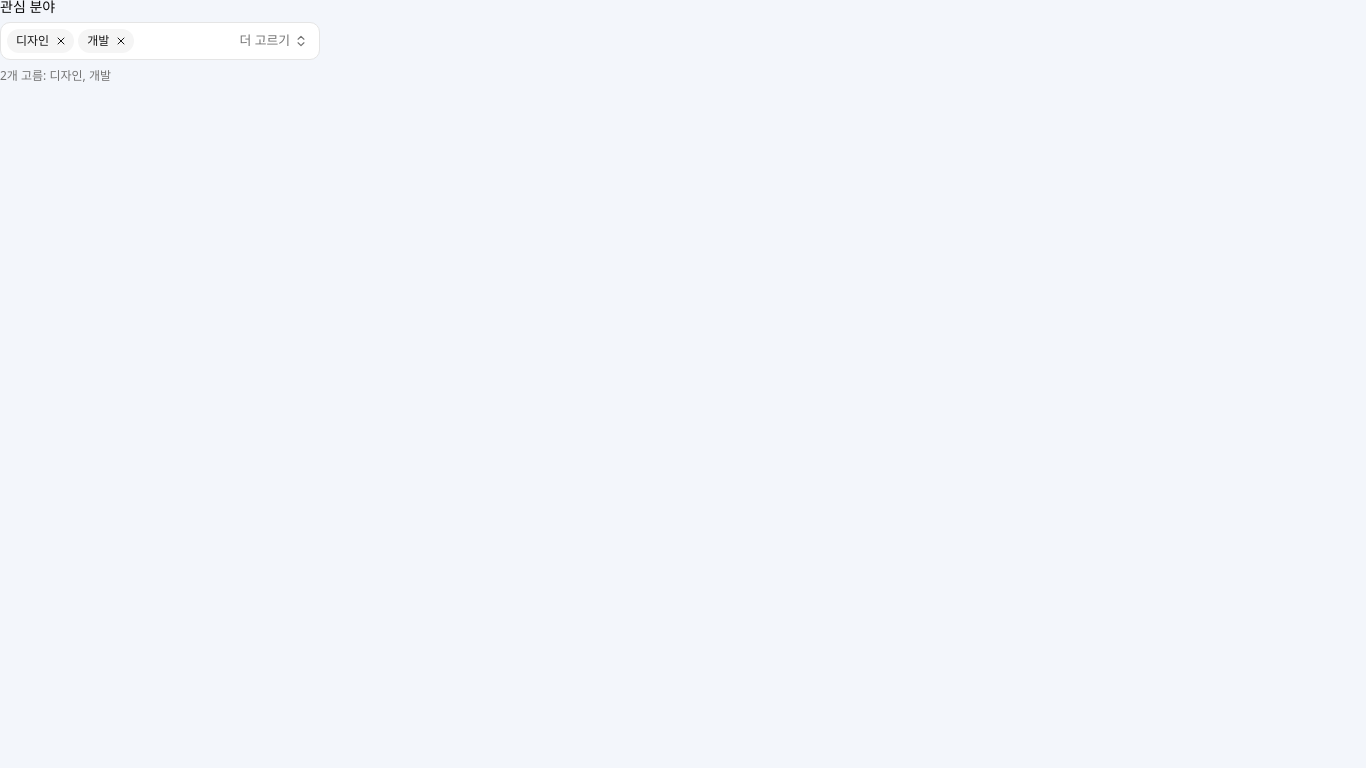
Test: pick many: the list stays open and chosen items become removable badges
Expected: the button named "디자인 빼기" is shown, [51,31,71,51]
Expected: the button named "개발 빼기" is shown, [111,31,131,51]
Click the dropdown named "관심 분야": (272, 41) [229,27,315,55]
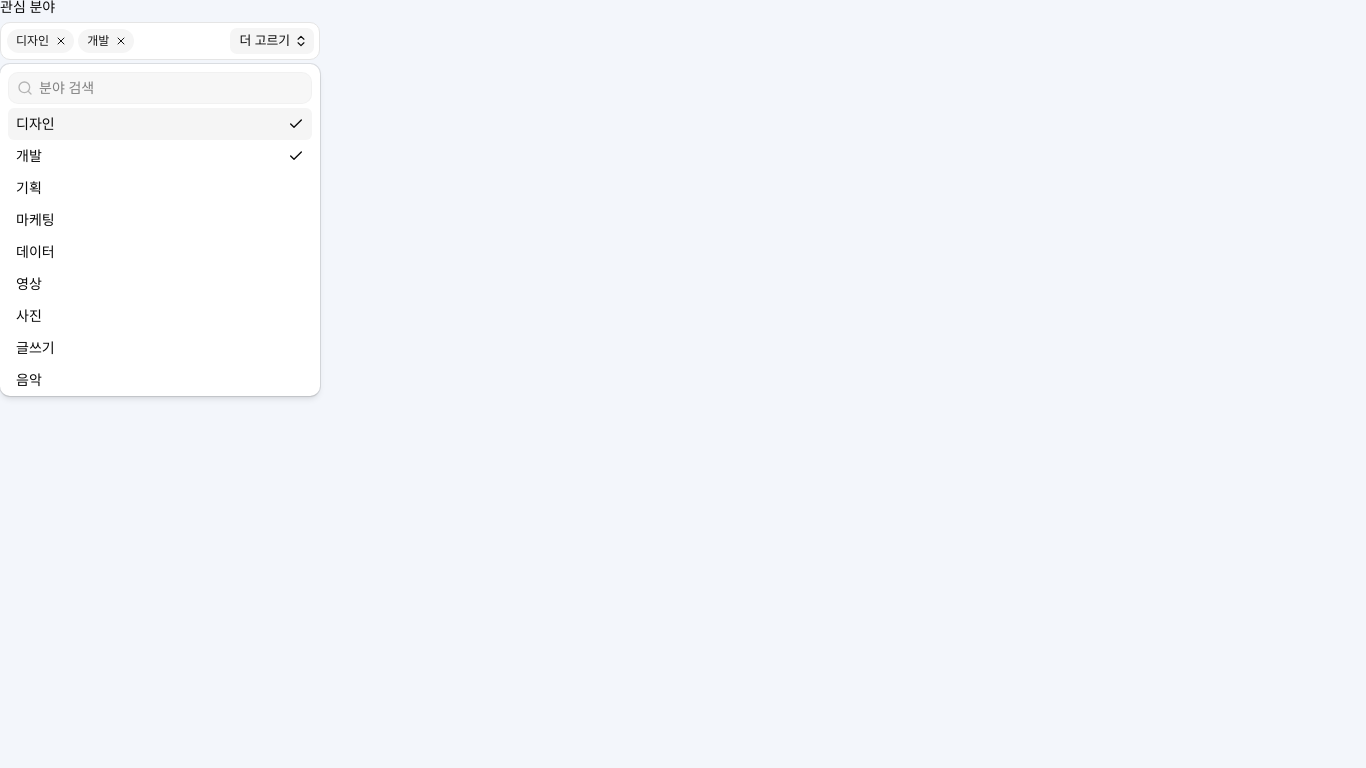
Click the option "데이터": (35, 252) [16,242,55,261]
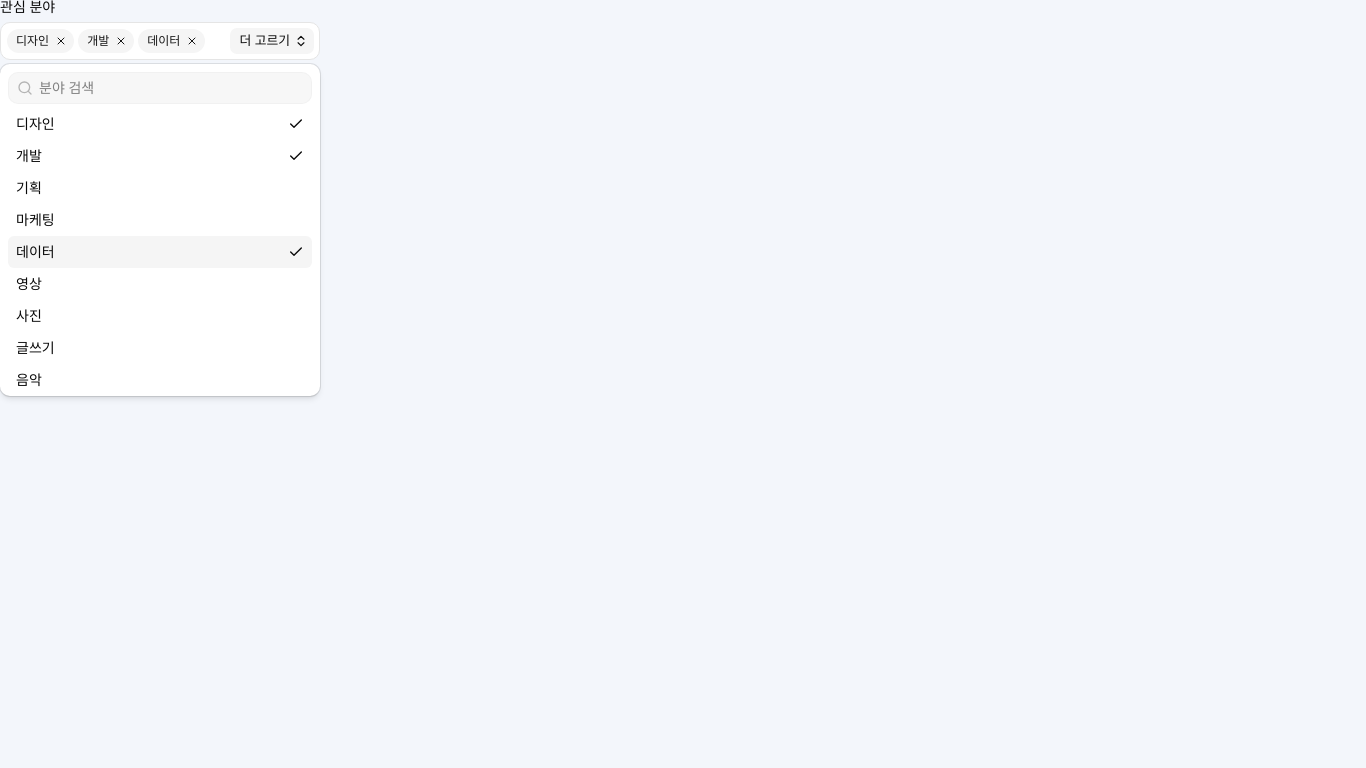
Now the button named "데이터 빼기" is shown, box [182,31,202,51]
Click the option "디자인": (35, 124) [16,114,304,133]
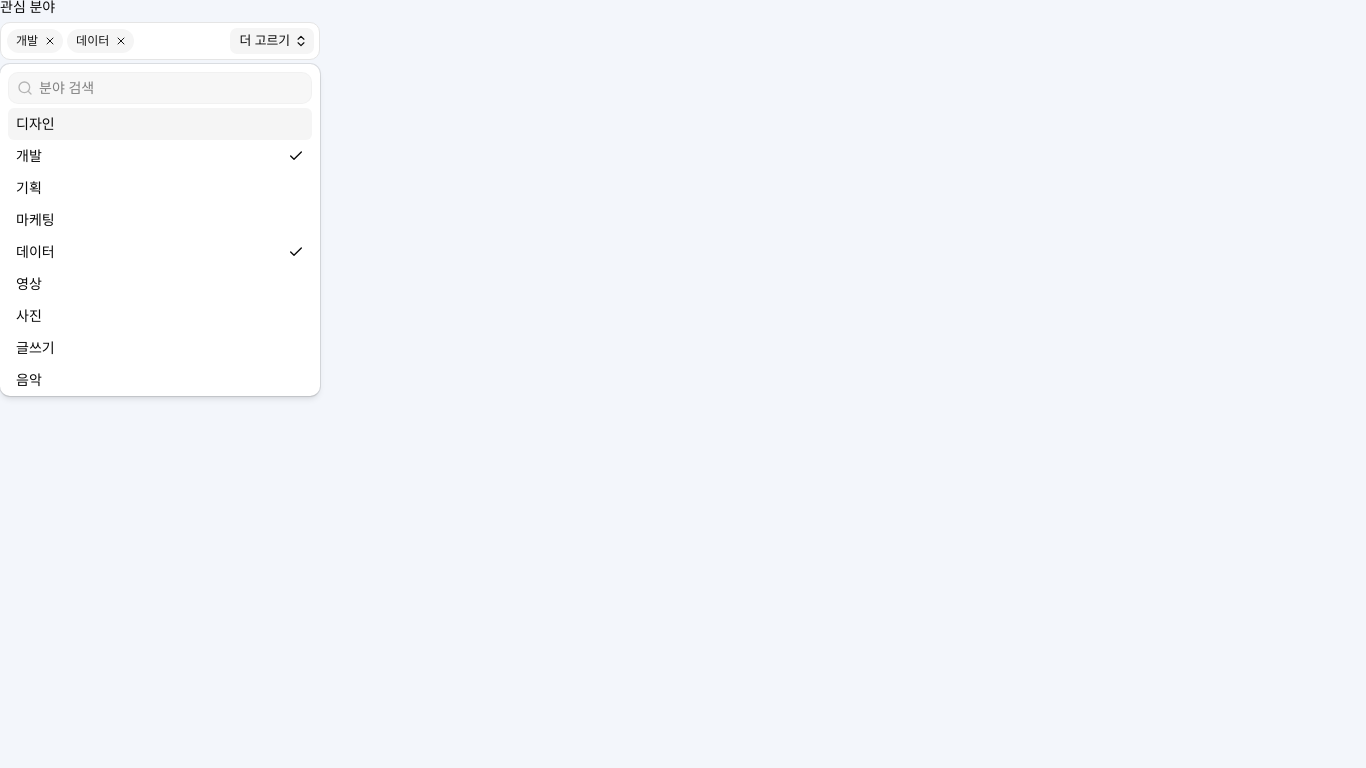
Expected: the message reads "2개 고름: 개발, 데이터", [0,67,111,84]
Press Escape
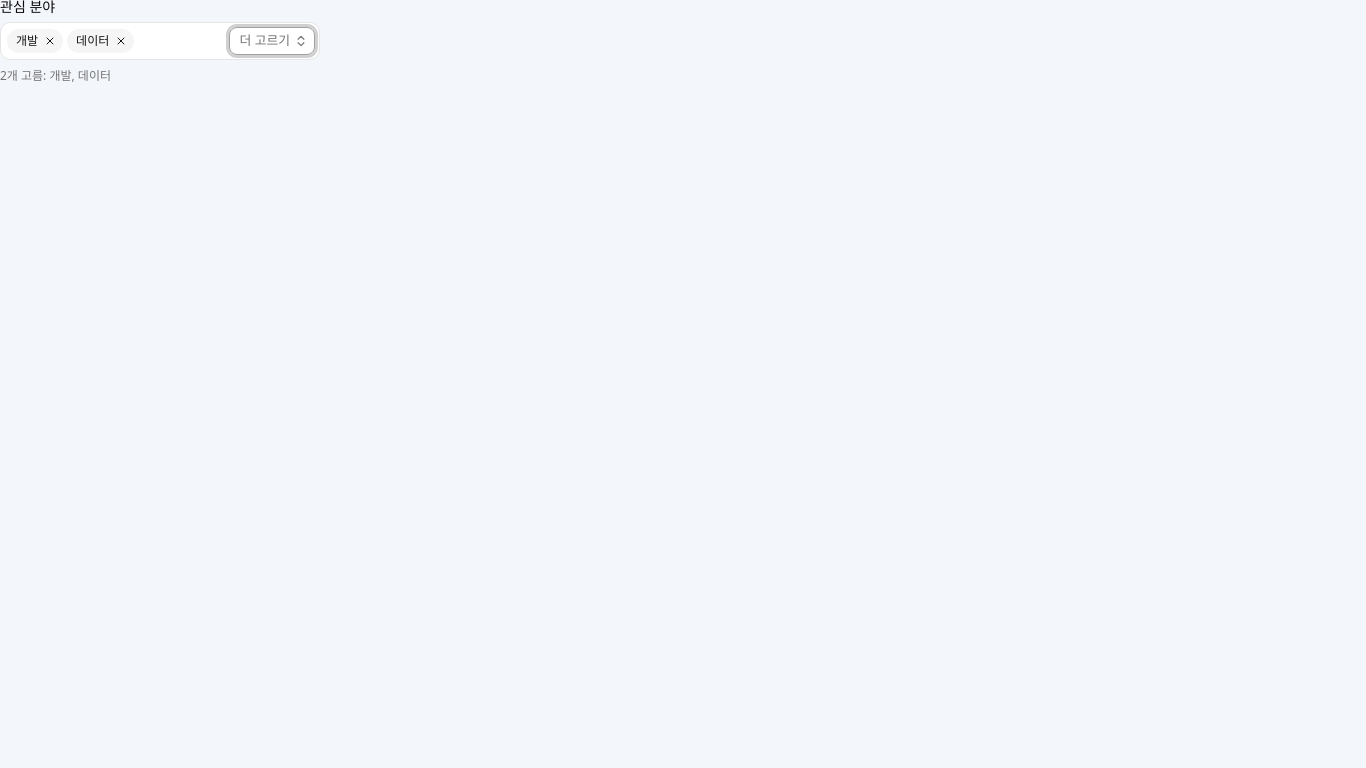
Now the list is gone
Click the button named "개발 빼기": (50, 41) [40,31,60,51]
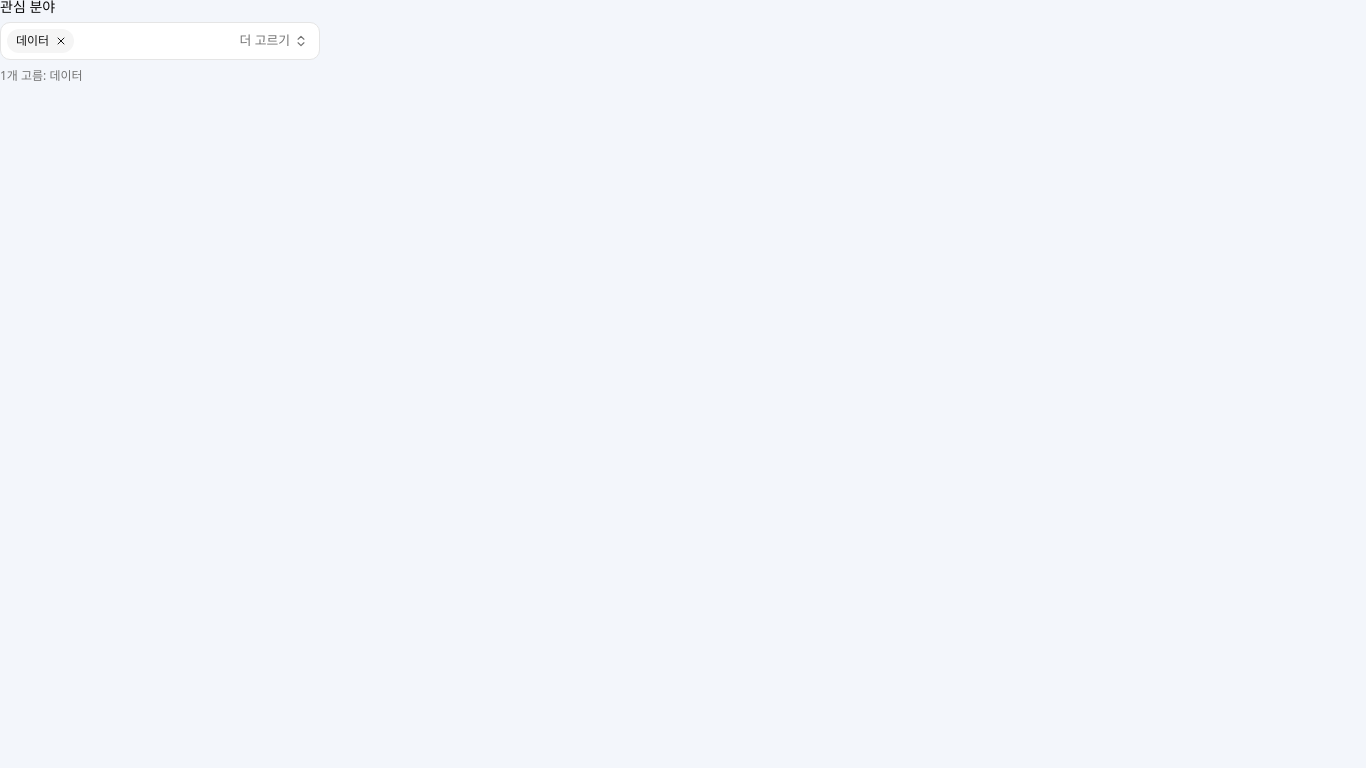
Now the message reads "1개 고름: 데이터", box [0,67,83,84]
